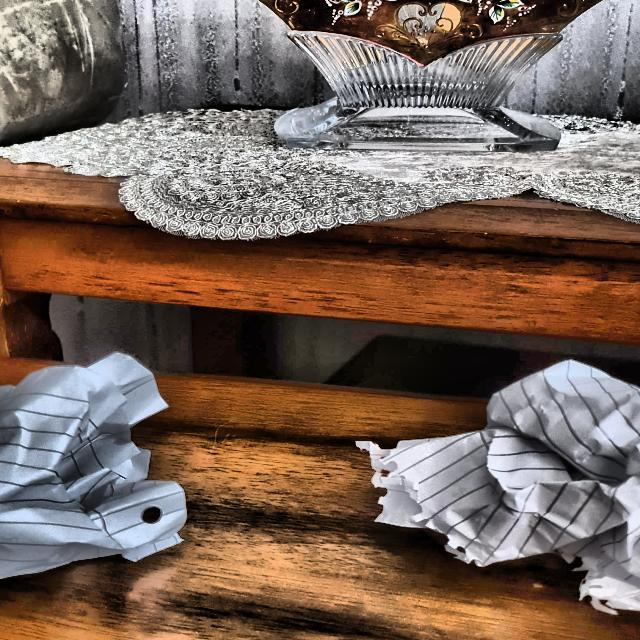paper: (375, 300, 640, 633), (0, 341, 181, 595)
